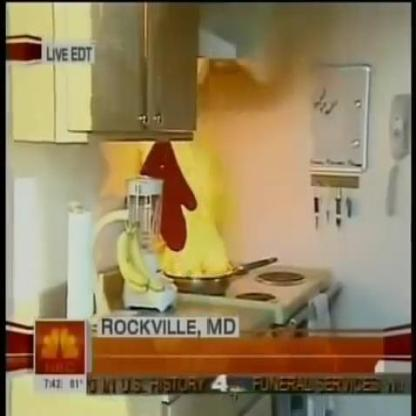fire: (150, 137, 240, 278)
